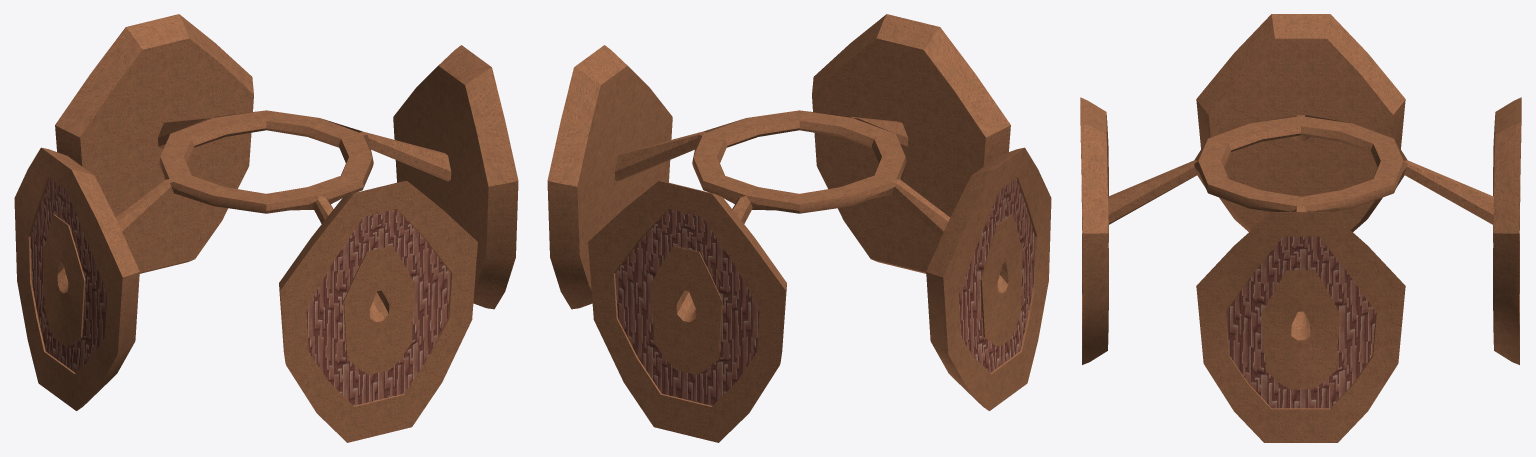
Rendered from test-actor2.glb.
The picture shows the model from 3 angles, left to right: view 1: azimuth 30°, elevation 25°; view 2: azimuth 150°, elevation 25°; view 3: azimuth 270°, elevation 25°; orthographic projection. The views are drawn at different scales.
Visible parts, largest first — view 1: Torus; view 2: Torus; view 3: Torus.
Boxes of the visible parts, x1,y1,x2,y2 form: Torus: [14, 14, 518, 442]; Torus: [547, 14, 1051, 442]; Torus: [1080, 14, 1521, 442].
Bounding box in the file's own units: 11.96 × 6.75 × 11.24.
2 materials, 2 textured.
